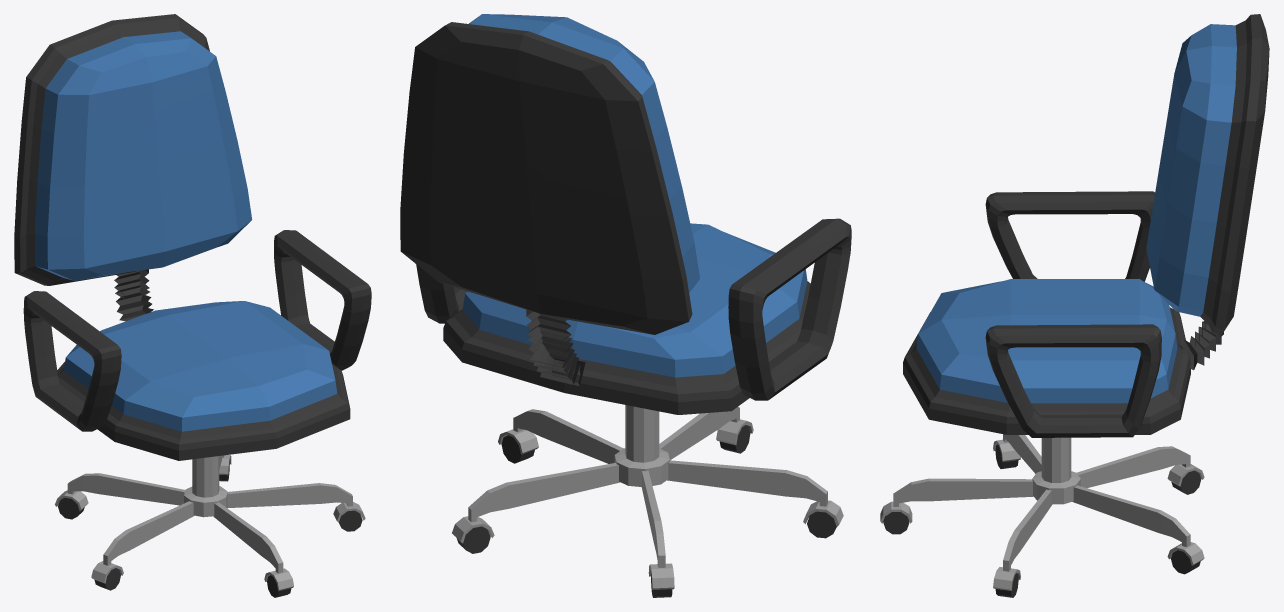
The model's file is chair.glb.
The picture shows the model from 3 angles, left to right: view 1: azimuth 30°, elevation 25°; view 2: azimuth 150°, elevation 25°; view 3: azimuth 270°, elevation 25°; orthographic projection. The views are drawn at different scales.
Parts seen in each view (by area): view 1: OfficeChair; view 2: OfficeChair; view 3: OfficeChair.
Boxes of the visible parts, x1,y1,x2,y2 form: OfficeChair: [14, 14, 371, 597]; OfficeChair: [400, 14, 851, 597]; OfficeChair: [880, 14, 1269, 597].
Size of the model in its own units: 0.7216 by 1.13 by 0.8072.
